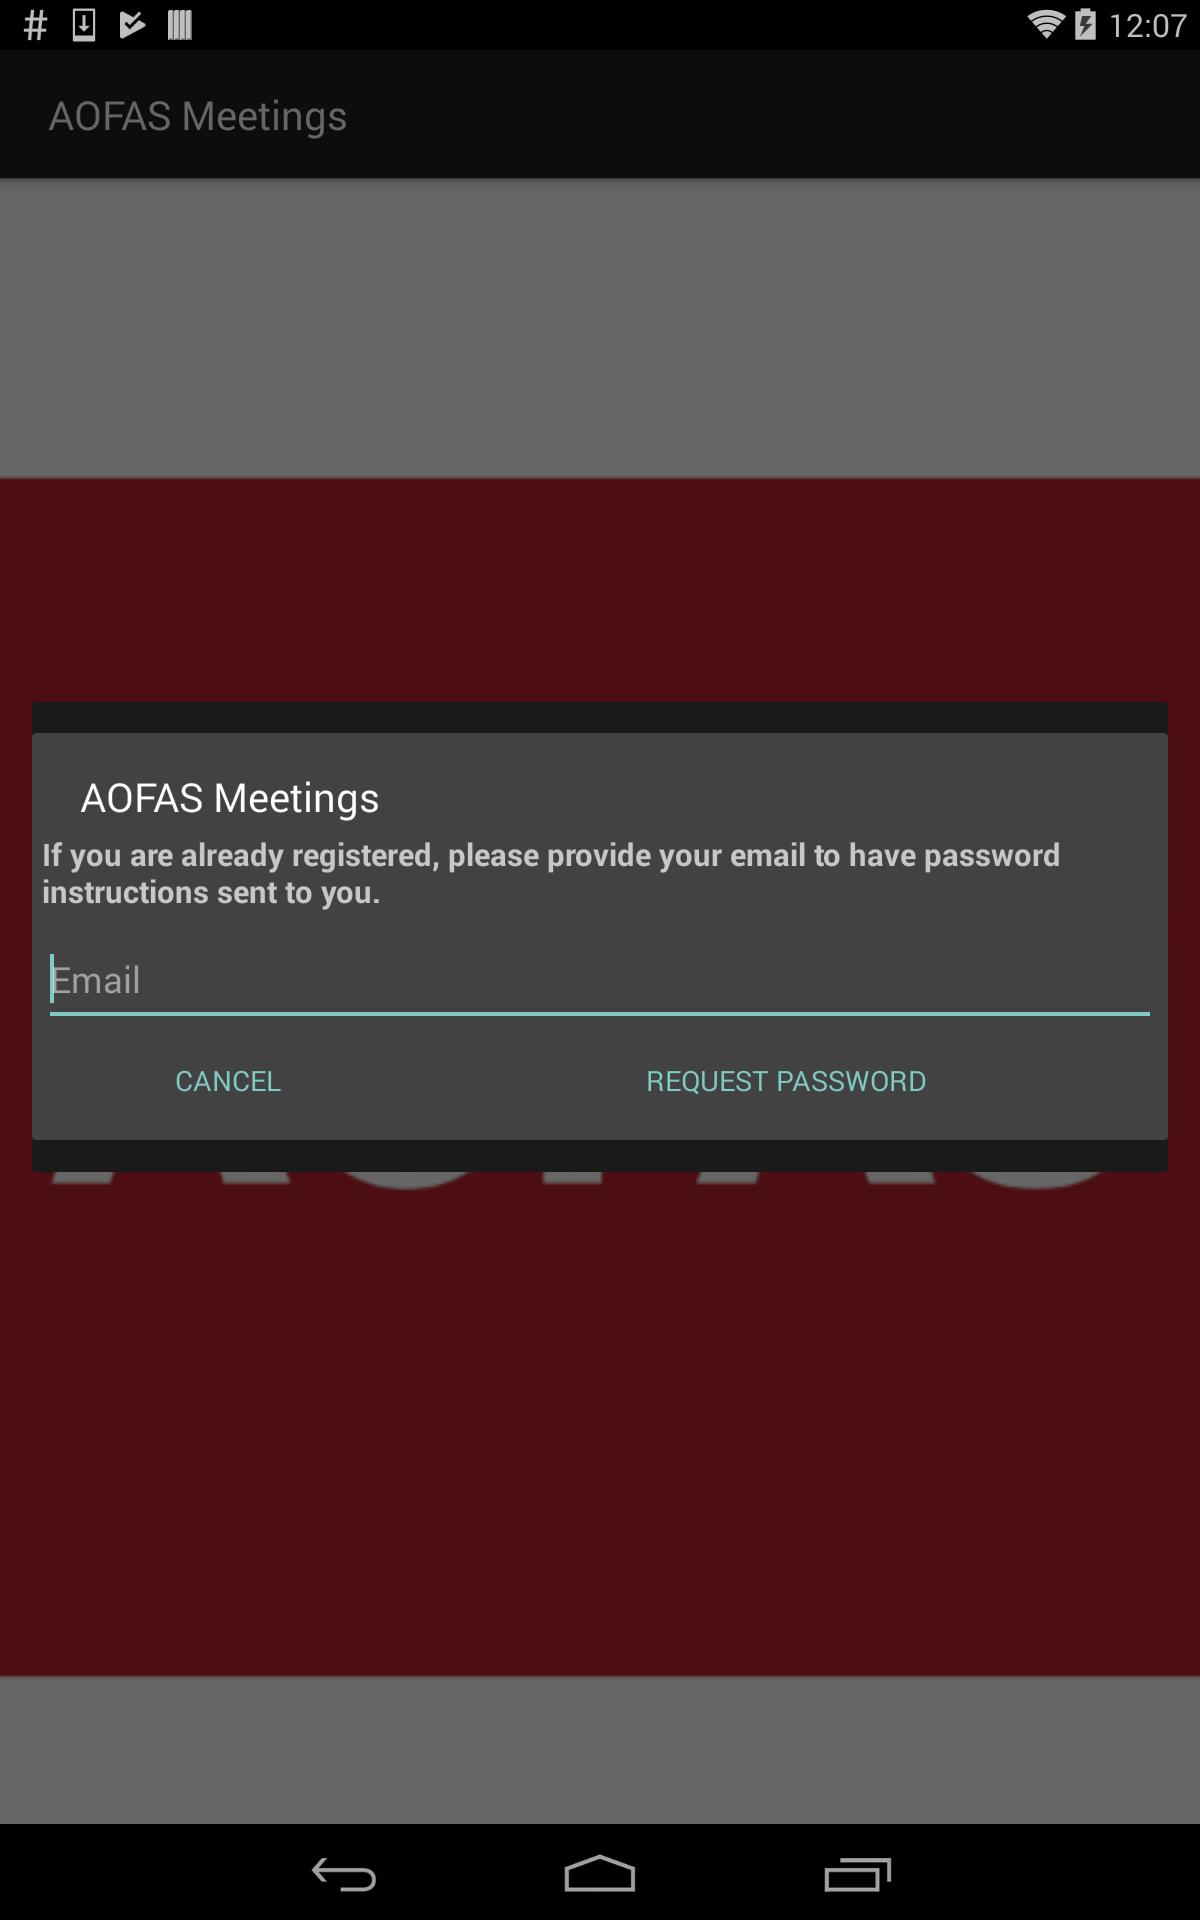android.widget.Button: (413, 1030, 1159, 1129), (41, 1030, 413, 1129)
android.widget.EditText: (41, 930, 1159, 1030)
android.widget.FrameLayout: (0, 701, 1200, 1172), (32, 733, 1168, 1140), (32, 822, 1168, 1140)
android.widget.LinearLayout: (32, 733, 1168, 1140), (32, 822, 1168, 1140), (41, 1030, 1159, 1129)
android.widget.TextView: (32, 733, 1168, 822), (41, 834, 1159, 912)
